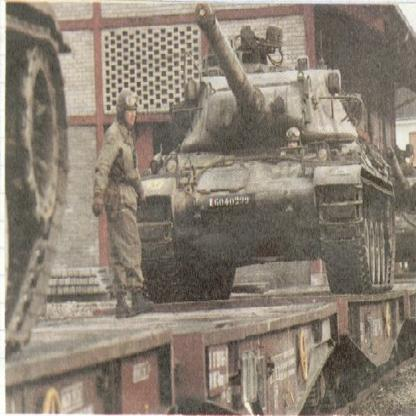Tank: (116, 1, 399, 300)
